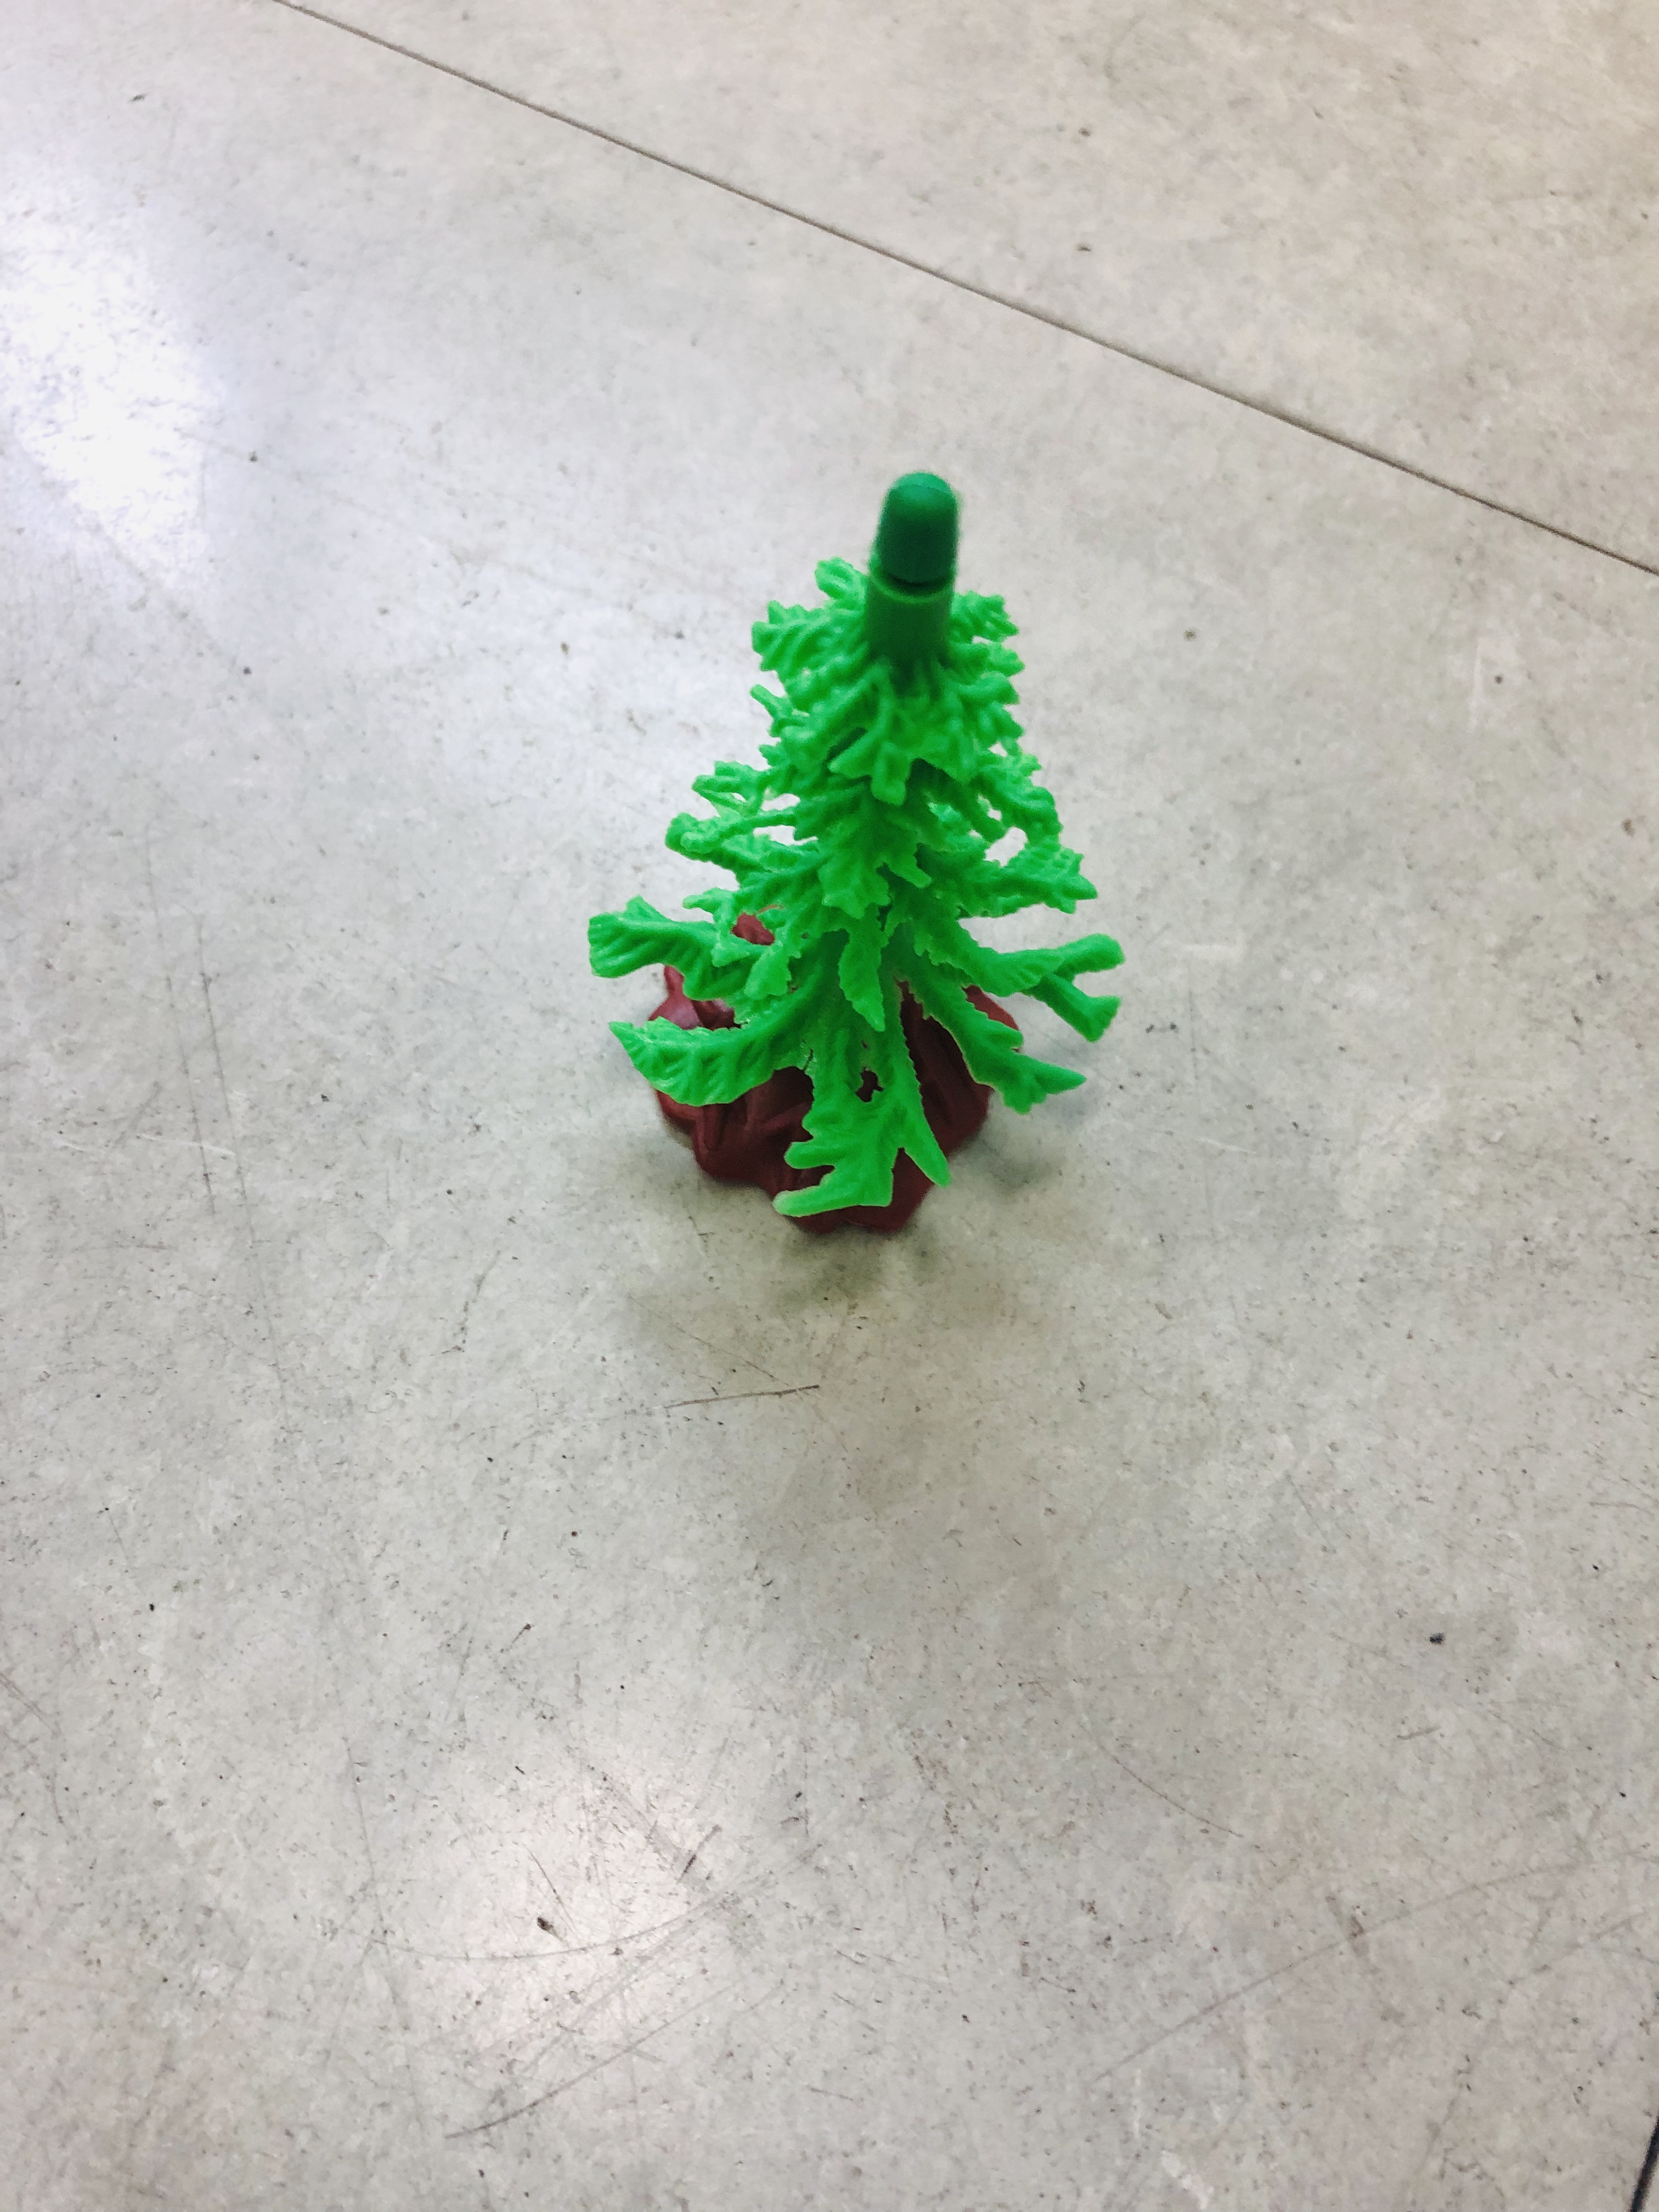tree: (551, 436, 1177, 1273)
